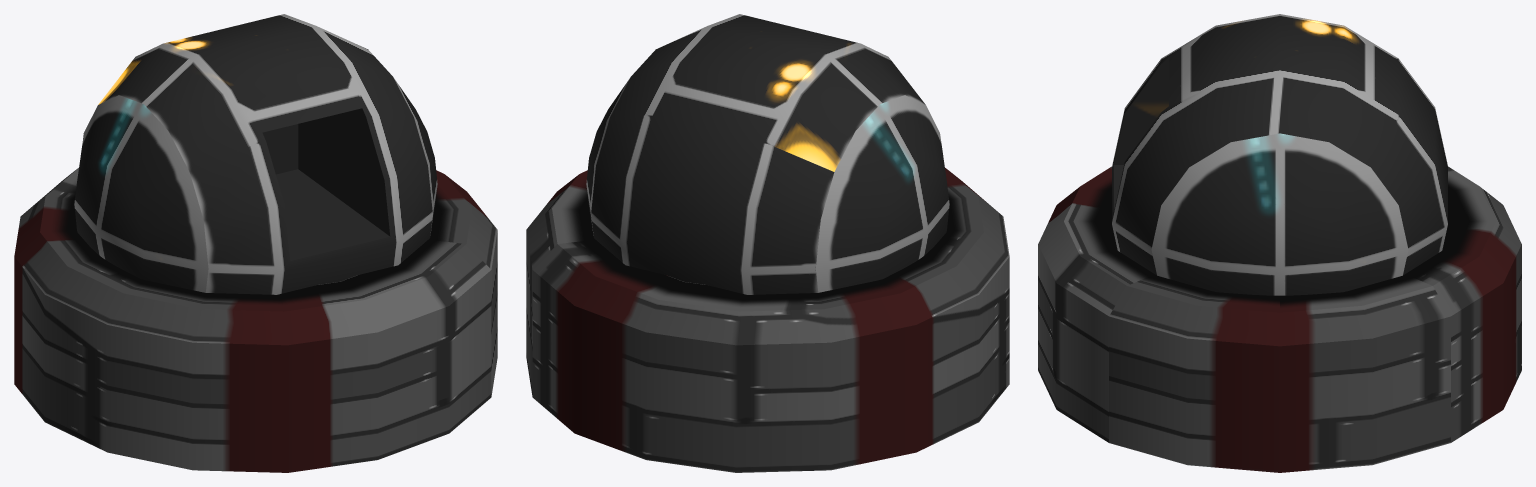
The model's file is Turret.fbx.
3 renders of one model, left to right at view 1: azimuth 30°, elevation 25°; view 2: azimuth 150°, elevation 25°; view 3: azimuth 270°, elevation 25°, orthographic.
Parts seen in each view (by area): view 1: Turret_LOD0, Pitch_LOD0, Yaw_LOD0; view 2: Turret_LOD0, Pitch_LOD0, Yaw_LOD0; view 3: Turret_LOD0, Pitch_LOD0, Yaw_LOD0.
Part boxes in pixels (x1=…): Turret_LOD0: x1=14, y1=168, x2=497, y2=472; Pitch_LOD0: x1=83, y1=14, x2=432, y2=294; Yaw_LOD0: x1=74, y1=77, x2=437, y2=292; Turret_LOD0: x1=526, y1=168, x2=1009, y2=472; Pitch_LOD0: x1=591, y1=14, x2=925, y2=294; Yaw_LOD0: x1=586, y1=77, x2=949, y2=292; Turret_LOD0: x1=1038, y1=166, x2=1521, y2=472; Pitch_LOD0: x1=1112, y1=14, x2=1447, y2=275; Yaw_LOD0: x1=1151, y1=133, x2=1408, y2=295.
Size of what is drawn, in the model's own units: 444 by 332 by 444.
